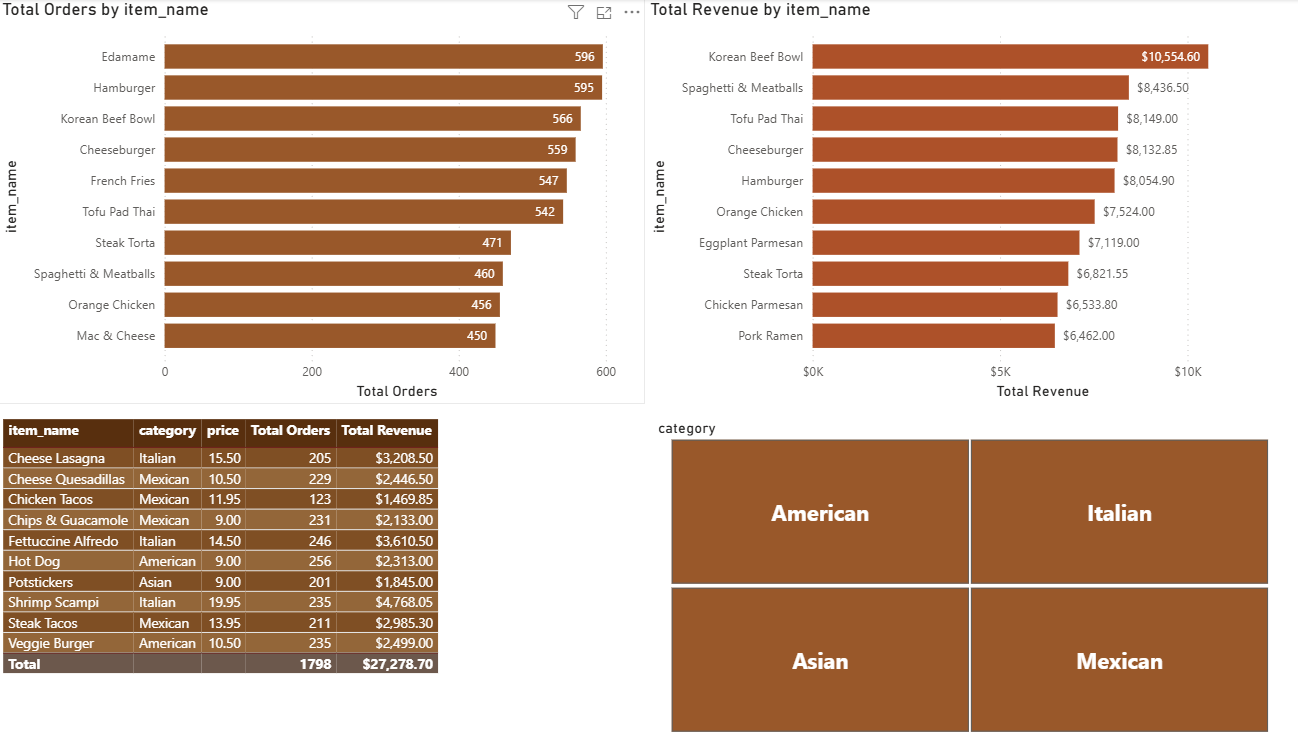

Layout of this report page (visuals, bound fields, positions):
{"tool":"powerbi","page":{"name":"Menu Performance","canvas":[1280,720],"ordinal":1},"visuals":[{"type":"clusteredBarChart","fields":{"Category":["menu_items_exp.item_name"],"Y":["Measures1.Total Orders"]},"box":[9.7,0,630.3,393.9],"z":0},{"type":"clusteredBarChart","fields":{"Category":["menu_items_exp.item_name"],"Y":["Measures1.Total Revenue"]},"box":[640,0,630.3,393.9],"z":1000},{"type":"tableEx","fields":{"Values":["menu_items_exp.item_name","menu_items_exp.category","menu_items_exp.price","Measures1.Total Orders","Measures1.Total Revenue"]},"box":[9.7,403.6,630.3,316.1],"z":2000},{"type":"slicer","fields":{"Values":["menu_items_exp.category"]},"box":[640,403.6,630.3,316.1],"z":3000}]}

Visuals, with their boxes in screenshot pixels (x1, y1, x2, y2), scaled from the page's 1280x720 canvas onto the 1298x737 screenshot:
clusteredBarChart - menu_items_exp.item_name x Measures1.Total Orders: [10, 0, 649, 403]
clusteredBarChart - menu_items_exp.item_name x Measures1.Total Revenue: [649, 0, 1288, 403]
tableEx - menu_items_exp.item_name x menu_items_exp.category: [10, 413, 649, 736]
slicer - menu_items_exp.category: [649, 413, 1288, 736]
